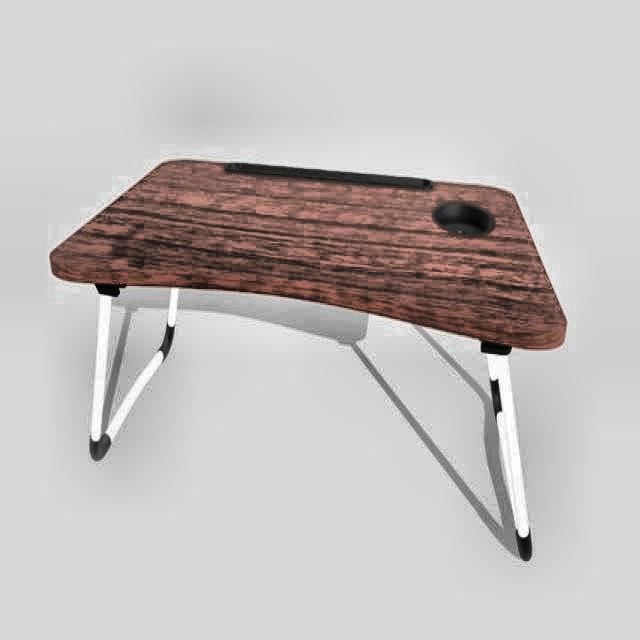mesa: (50, 153, 568, 563)
